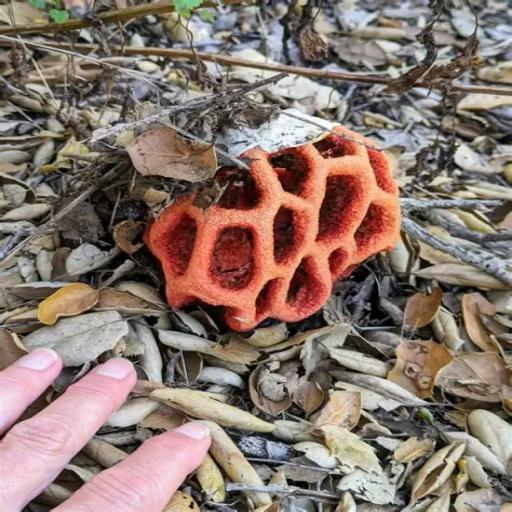Red Cage Fungus: (126, 101, 431, 353)
